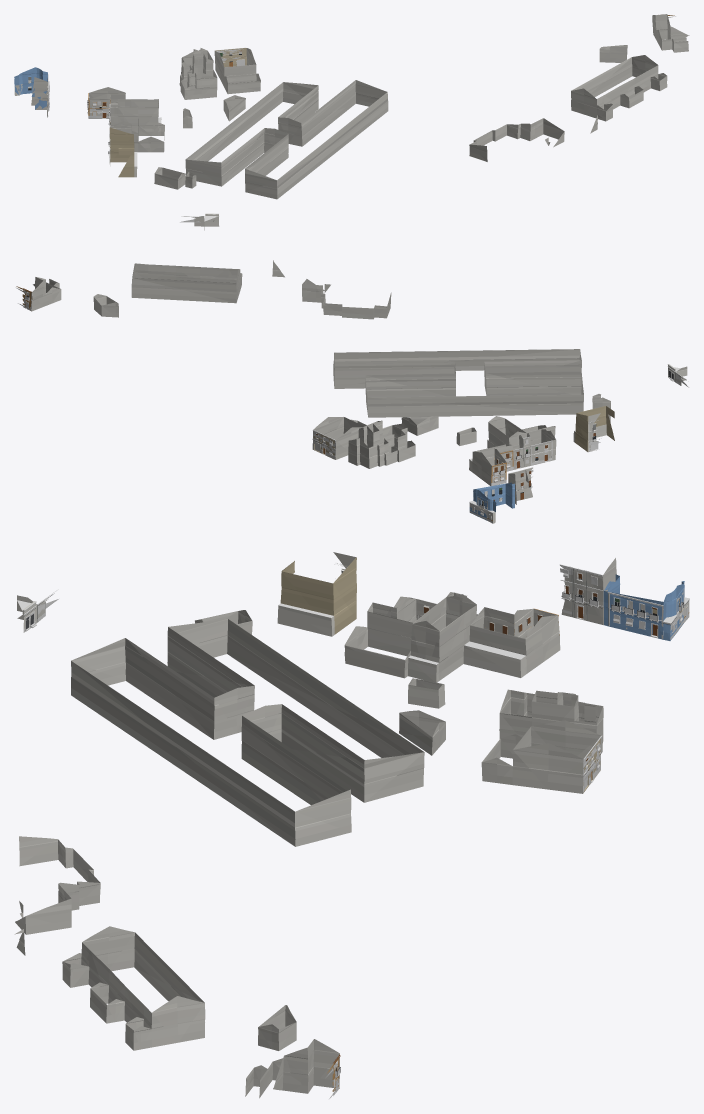
The model's file is zona_1_0.glb.
3 renders of one model, top to bottom at view 1: azimuth 30°, elevation 25°; view 2: azimuth 150°, elevation 25°; view 3: azimuth 270°, elevation 25°, orthographic. The views are drawn at different scales.
Visible parts, largest first — view 1: z_casas_1_0, z_fachadas_1_0, z_casas_planas_1_0; view 2: z_casas_1_0, z_fachadas_1_0, z_casas_planas_1_0; view 3: z_casas_1_0, z_fachadas_1_0, z_casas_planas_1_0.
Boxes of the visible parts, x1=… form: z_casas_1_0: x1=14, y1=14, x2=689, y2=230; z_fachadas_1_0: x1=28, y1=16, x2=675, y2=222; z_casas_planas_1_0: x1=14, y1=84, x2=219, y2=227; z_casas_1_0: x1=16, y1=260, x2=687, y2=520; z_fachadas_1_0: x1=16, y1=288, x2=688, y2=522; z_casas_planas_1_0: x1=469, y1=367, x2=687, y2=523; z_casas_1_0: x1=14, y1=552, x2=684, y2=1098; z_fachadas_1_0: x1=22, y1=563, x2=689, y2=1098; z_casas_planas_1_0: x1=17, y1=597, x2=689, y2=682.
Bounding box in the file's own units: 208 × 12.01 × 119.
